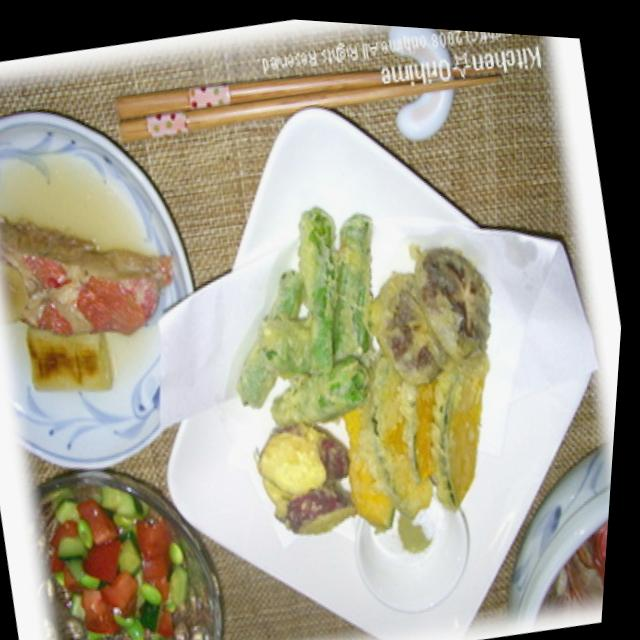蔬菜料理: (197, 145, 565, 578)
